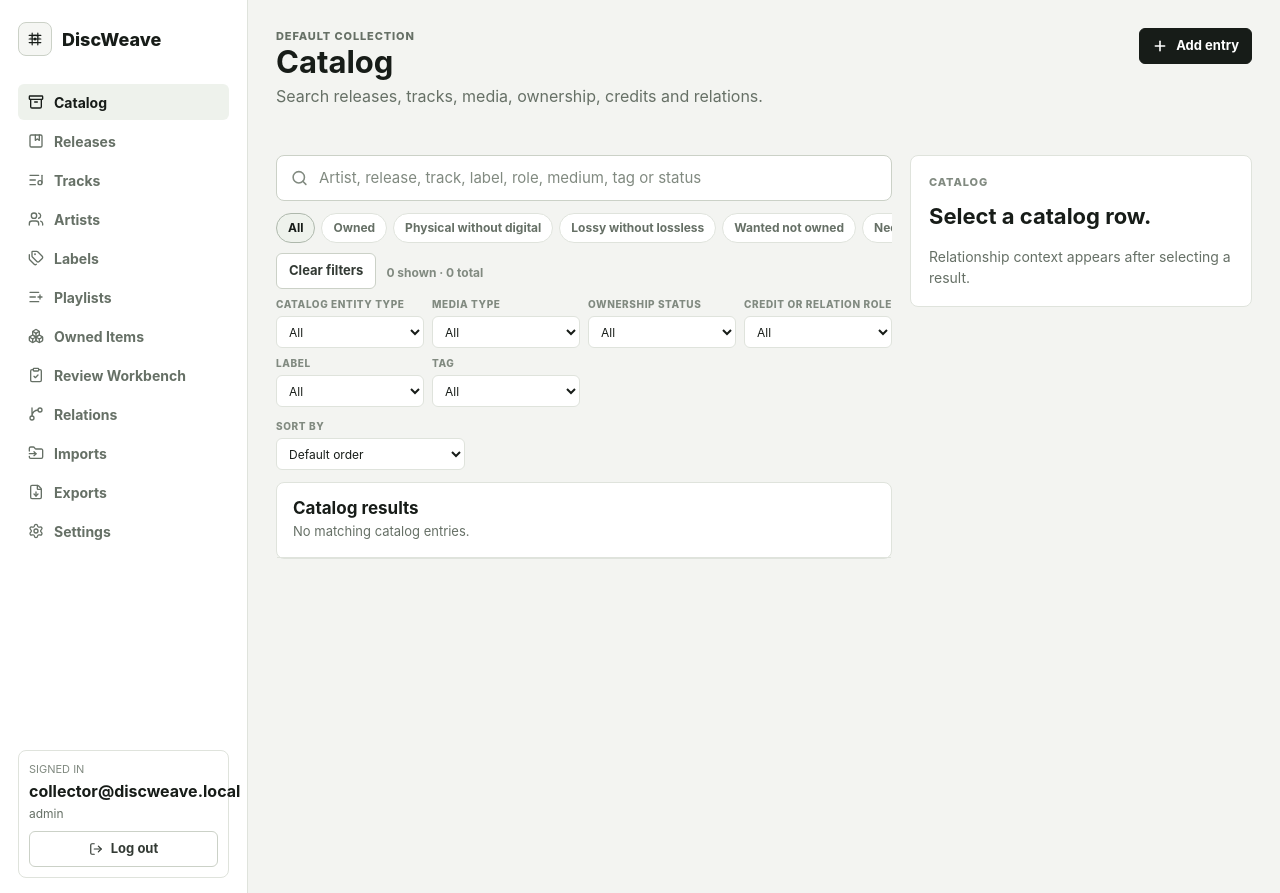
Scenario: App catalog actions › shows catalog add entry API errors without blocking previous catalog data
The width and height of the screenshot is (1280, 893).
Expected: the text "No matching catalog entries." is shown, [293,522,470,542]
Click the button "Add entry".
click(1196, 46)  # box [1139,28,1252,64]
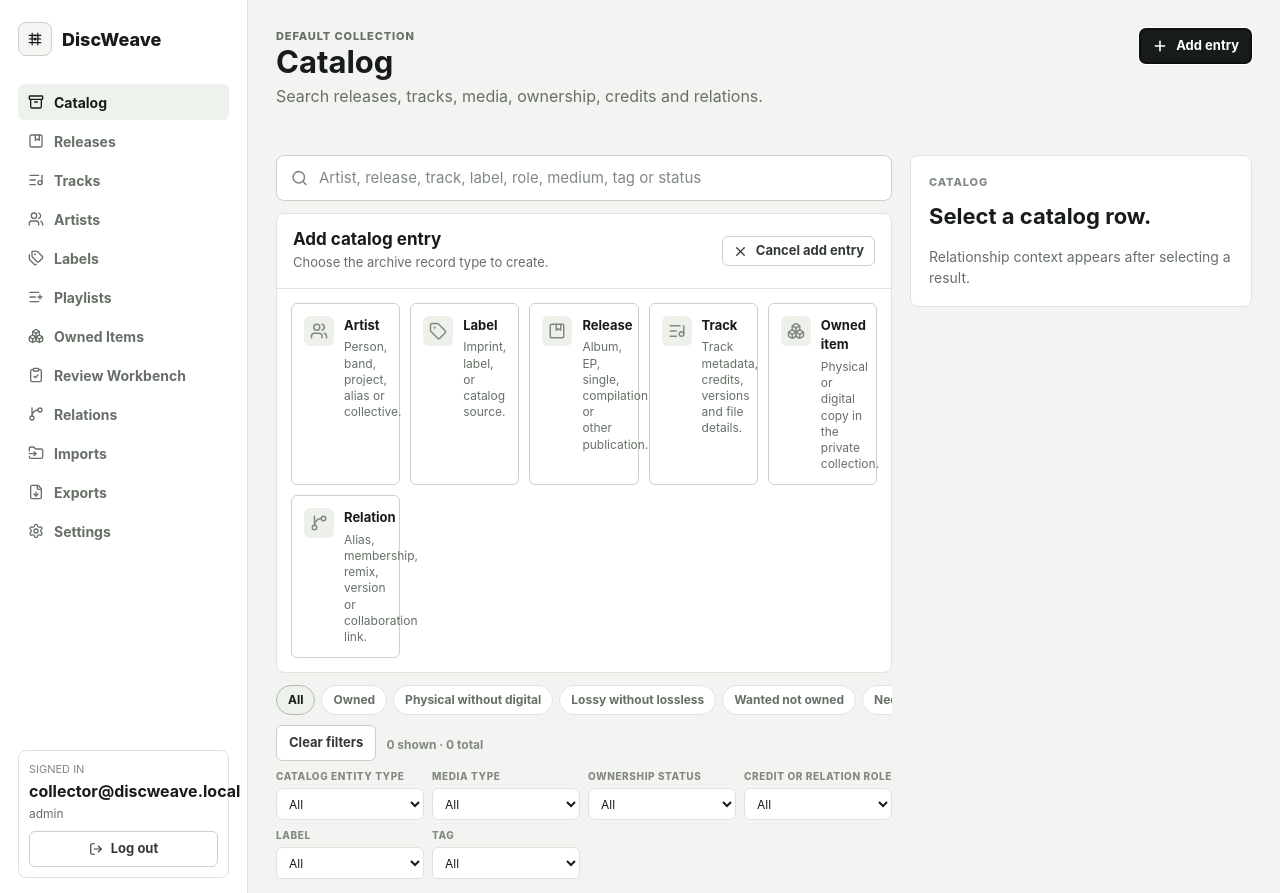
Click the button with aria-label "Create artist entry".
click(346, 394)  # box [291,303,400,485]
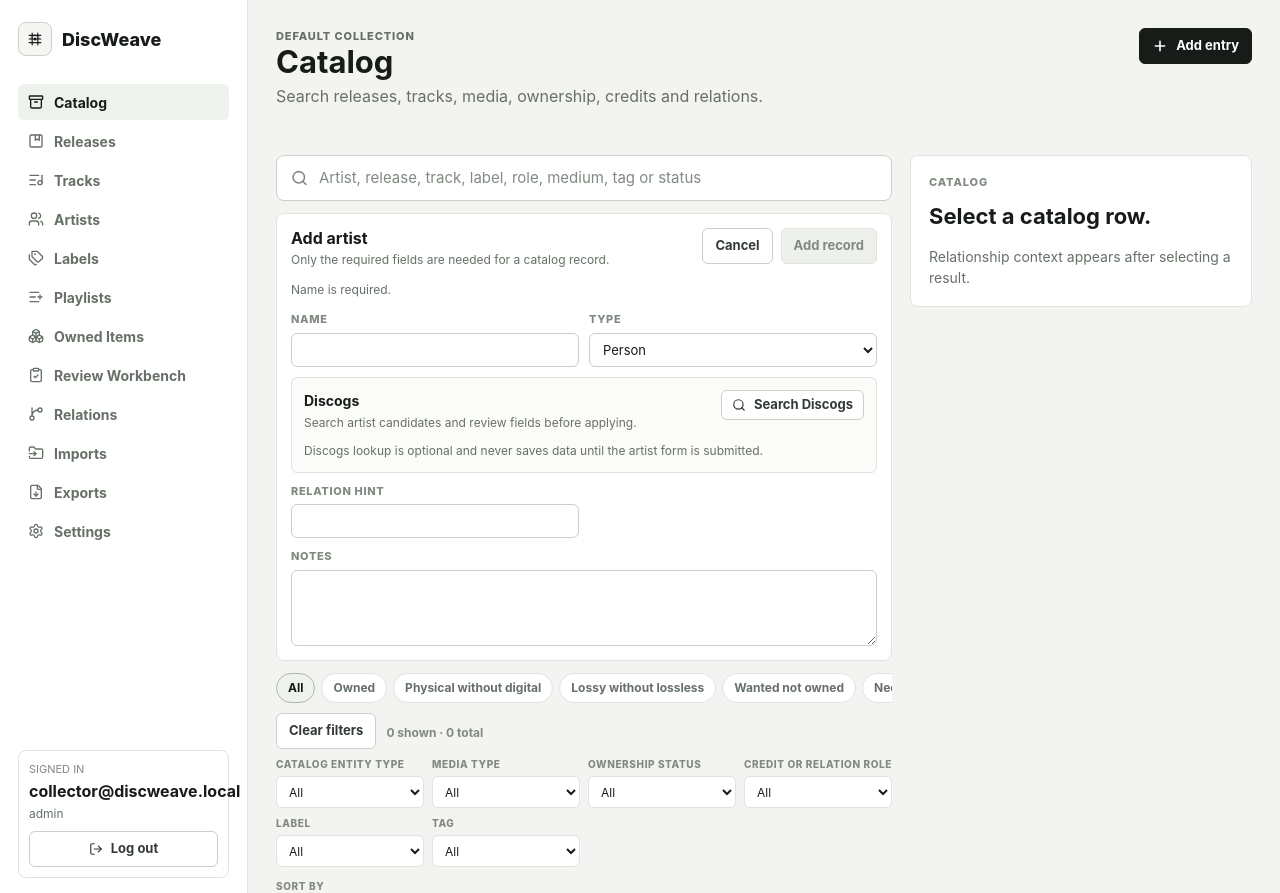
Type "Catalog Error Artist" into the field labelled "Name".
click(435, 350); type("Catalog Error Artist")  # box [291,333,579,367]
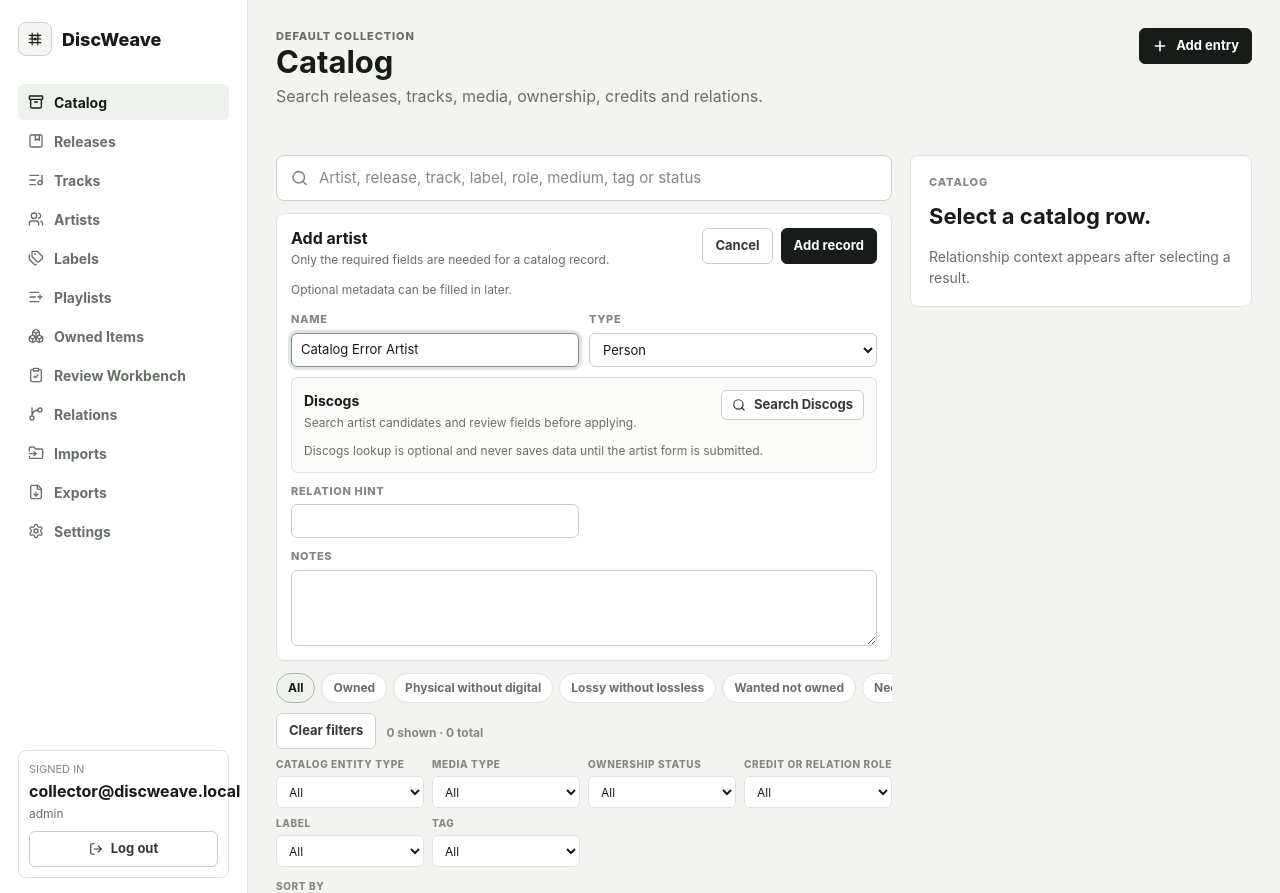
Click the button "Add record".
click(829, 246)  # box [781,228,877,264]
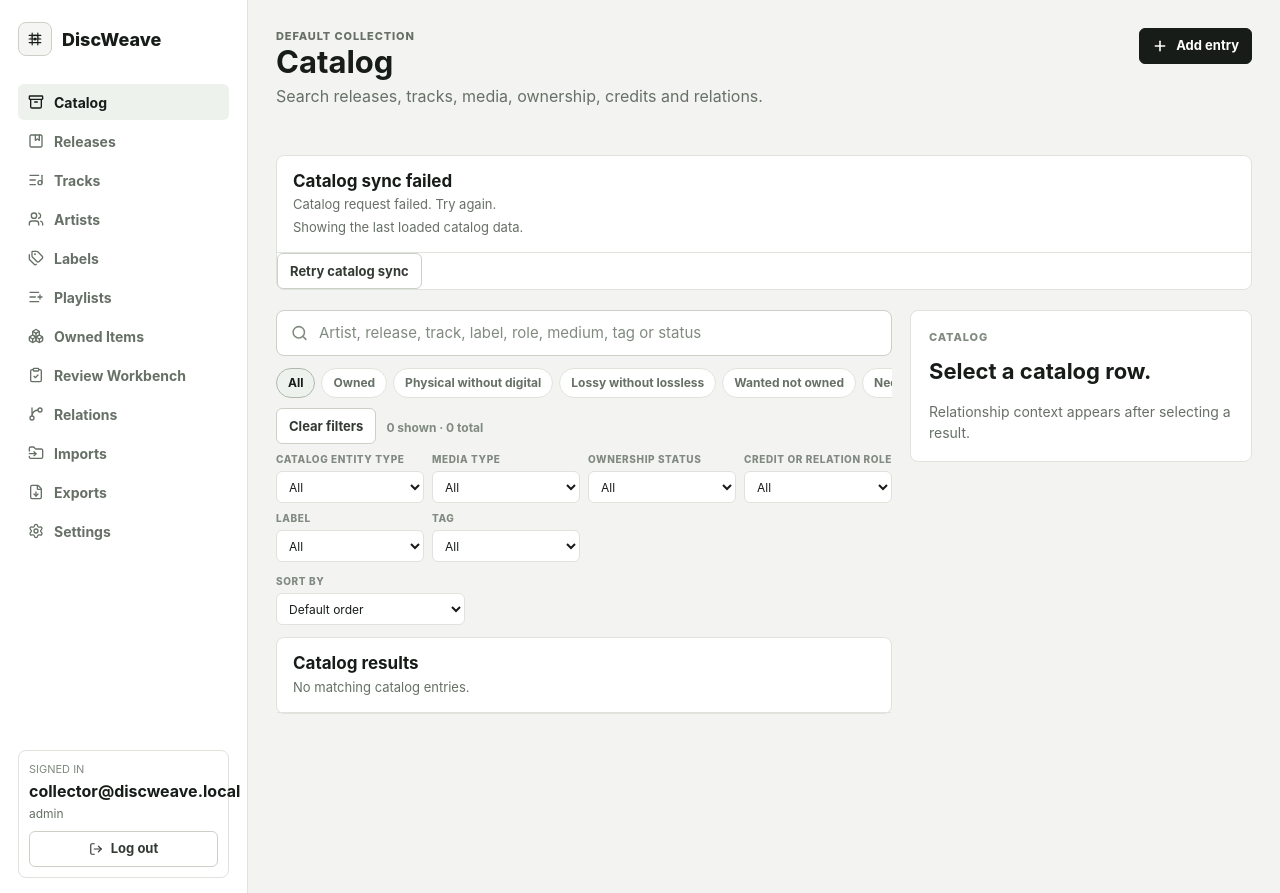
Expected: the heading "Catalog" is shown, [276,42,393,80]
Result: the message reads "Catalog request failed. Try again." at [293,196,496,212]
